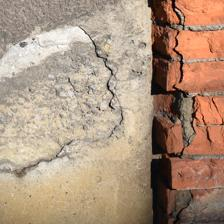Crack: (9, 12, 103, 114), (0, 72, 86, 125), (63, 30, 111, 103), (85, 24, 105, 51)
